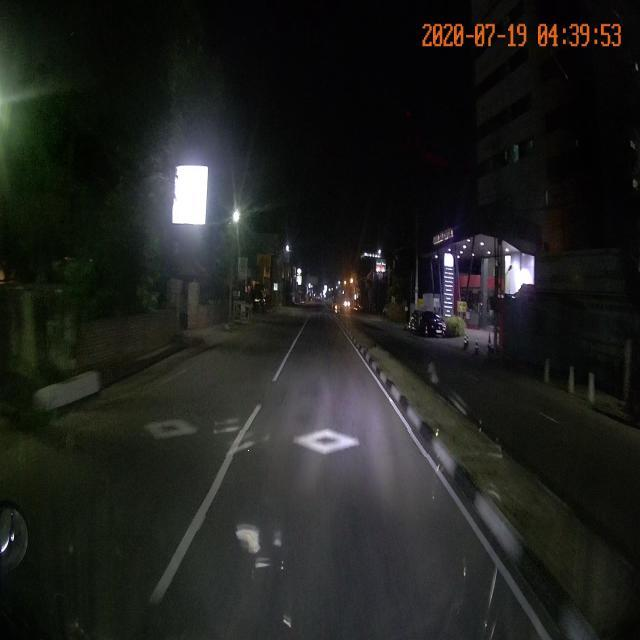diamond: (225, 430, 428, 457)
